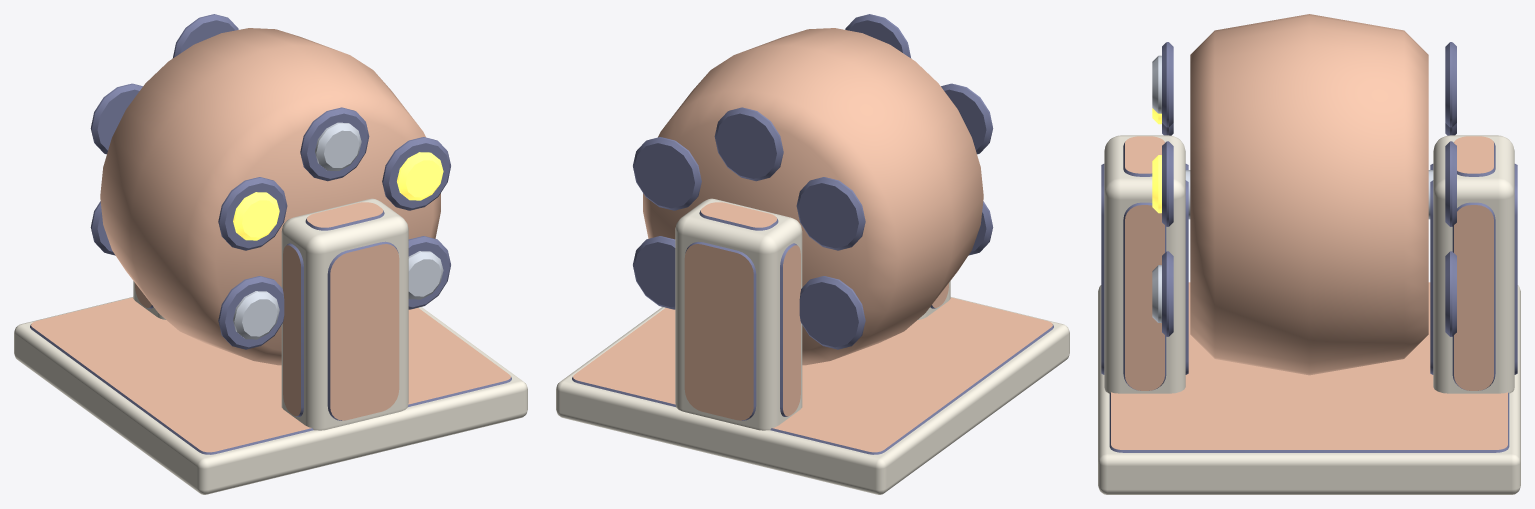
Rendered from R4X_ReloadBooster.fbx.
3 views of the same model, side by side, from view 1: azimuth 30°, elevation 25°; view 2: azimuth 150°, elevation 25°; view 3: azimuth 270°, elevation 25° (orthographic). The views are drawn at different scales.
Parts seen in each view (by area): view 1: R4X_ReloadBooster_Drum, R4X_ReloadBooster_Body; view 2: R4X_ReloadBooster_Drum, R4X_ReloadBooster_Body; view 3: R4X_ReloadBooster_Body, R4X_ReloadBooster_Drum.
Part boxes in pixels (x1,y1,x2,y2): R4X_ReloadBooster_Drum: (90,14,450,365); R4X_ReloadBooster_Body: (14,198,527,494); R4X_ReloadBooster_Drum: (633,14,993,365); R4X_ReloadBooster_Body: (556,198,1069,494); R4X_ReloadBooster_Body: (1098,135,1520,494); R4X_ReloadBooster_Drum: (1152,14,1456,375).
Bounding box in the file's own units: 0.514 × 0.5097 × 0.514.
